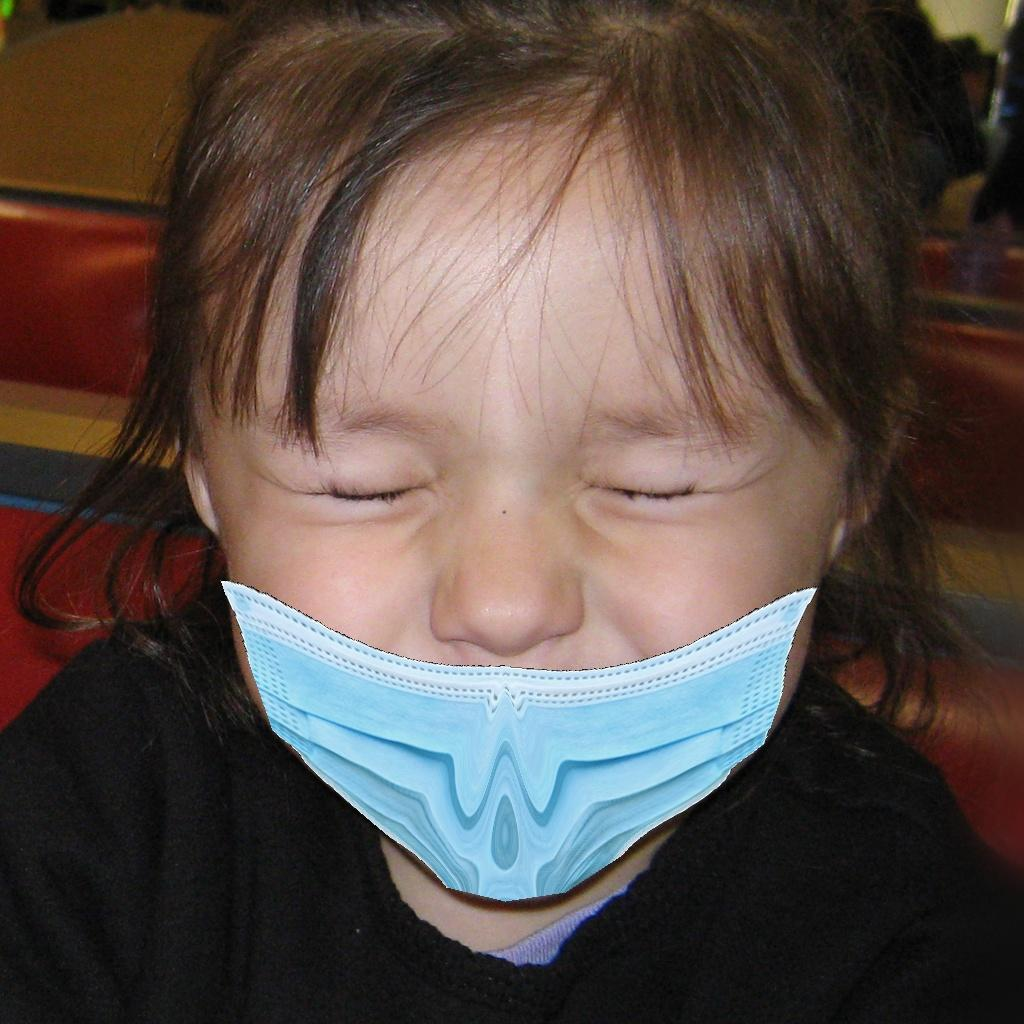Máscara Incorreta: (153, 123, 908, 923)
